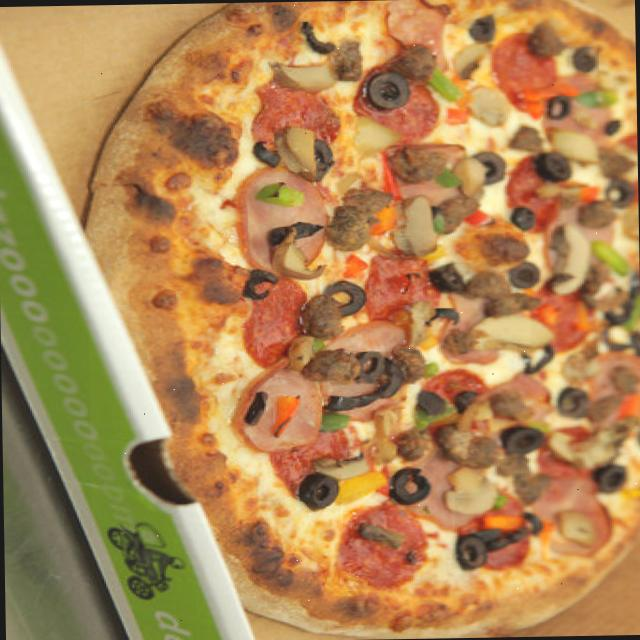Olive: (323, 352, 406, 408), (262, 221, 330, 278), (388, 464, 434, 508), (360, 70, 410, 110), (322, 279, 370, 319), (298, 472, 342, 512), (424, 258, 471, 294), (527, 146, 574, 182), (450, 528, 492, 568), (469, 145, 508, 186), (296, 18, 338, 56), (552, 383, 594, 418), (239, 384, 273, 426), (498, 426, 540, 459), (546, 220, 572, 273), (239, 266, 278, 300), (602, 173, 638, 208), (590, 462, 630, 493), (349, 350, 388, 381), (516, 342, 556, 372), (506, 258, 540, 290), (464, 12, 500, 42), (540, 95, 576, 124), (568, 46, 598, 76), (424, 307, 459, 332), (310, 138, 330, 178), (540, 274, 576, 293), (512, 206, 535, 230)
pepperoni: (270, 411, 366, 497), (336, 505, 428, 593), (351, 64, 445, 146), (366, 242, 446, 334), (253, 86, 339, 164), (243, 272, 311, 368), (454, 496, 536, 570), (503, 155, 562, 242), (491, 28, 559, 101), (530, 284, 596, 358), (414, 368, 492, 428), (531, 429, 605, 480)
pizza: (86, 0, 640, 638)
